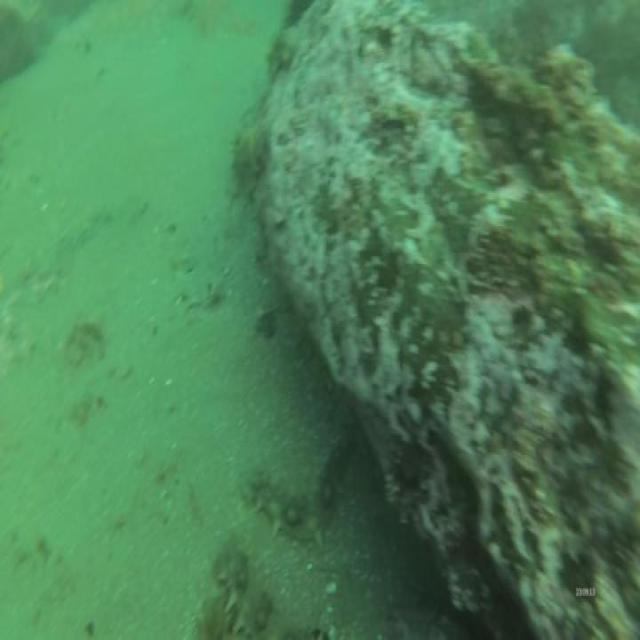holothurian: (214, 532, 290, 640), (246, 461, 334, 547), (321, 412, 360, 520), (230, 125, 270, 185), (265, 32, 300, 78)
